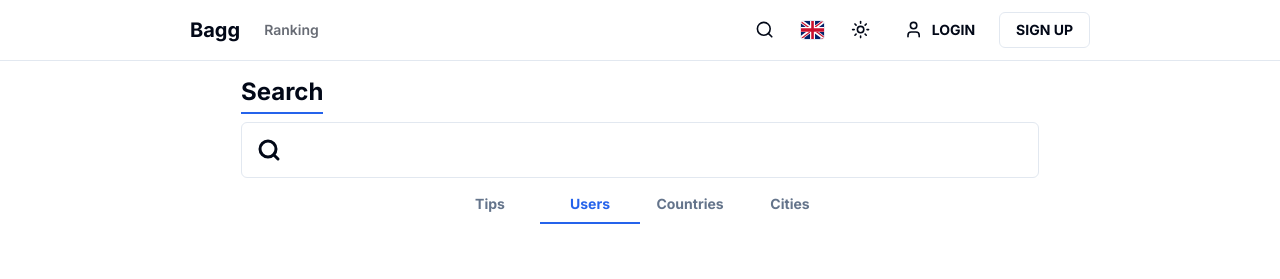
Test: Página de pesquisa › Pesquisa sem resultados
Type "teste" into the field with test id "search-input" at (640,150), box [241,122,1039,178]
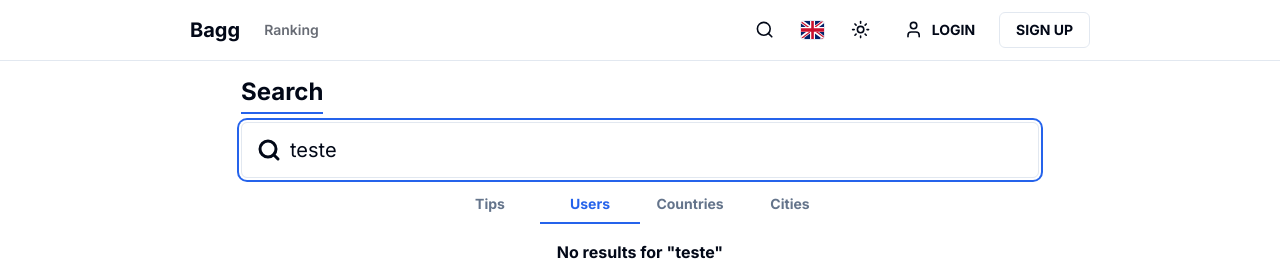
Expected: the text "No results for \"teste\"" is shown, [557,242,723,262]
